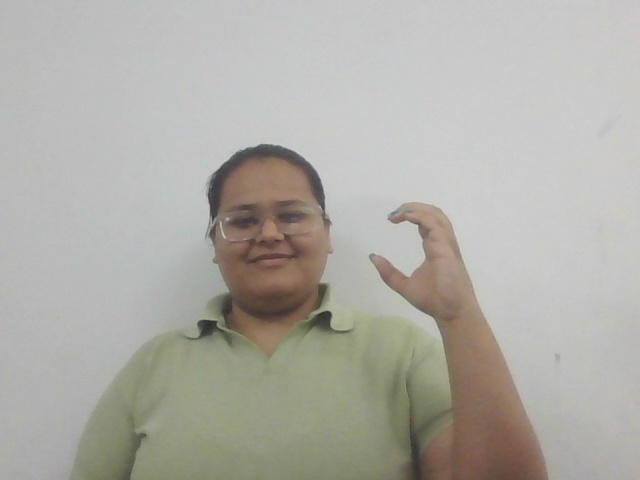C: (366, 200, 476, 323)
